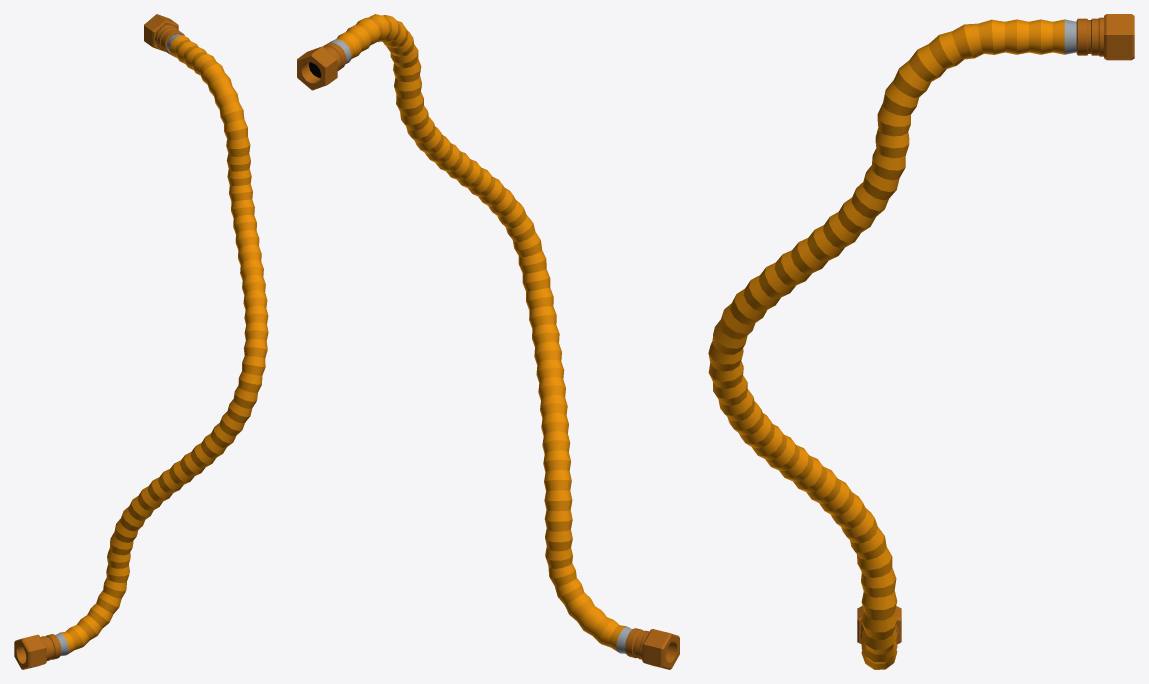
The model's file is GasHose.obj.
3 views of the same model, side by side, from view 1: azimuth 30°, elevation 25°; view 2: azimuth 150°, elevation 25°; view 3: azimuth 270°, elevation 25° (orthographic). The views are drawn at different scales.
Parts seen in each view (by area): view 1: GasHose; view 2: GasHose; view 3: GasHose.
Boxes of the visible parts, <box> form: GasHose: <box>14,14,268,669</box>; GasHose: <box>297,14,679,669</box>; GasHose: <box>708,14,1134,669</box>.
Bounding box in the file's own units: 0.233 × 0.51 × 0.2506.
